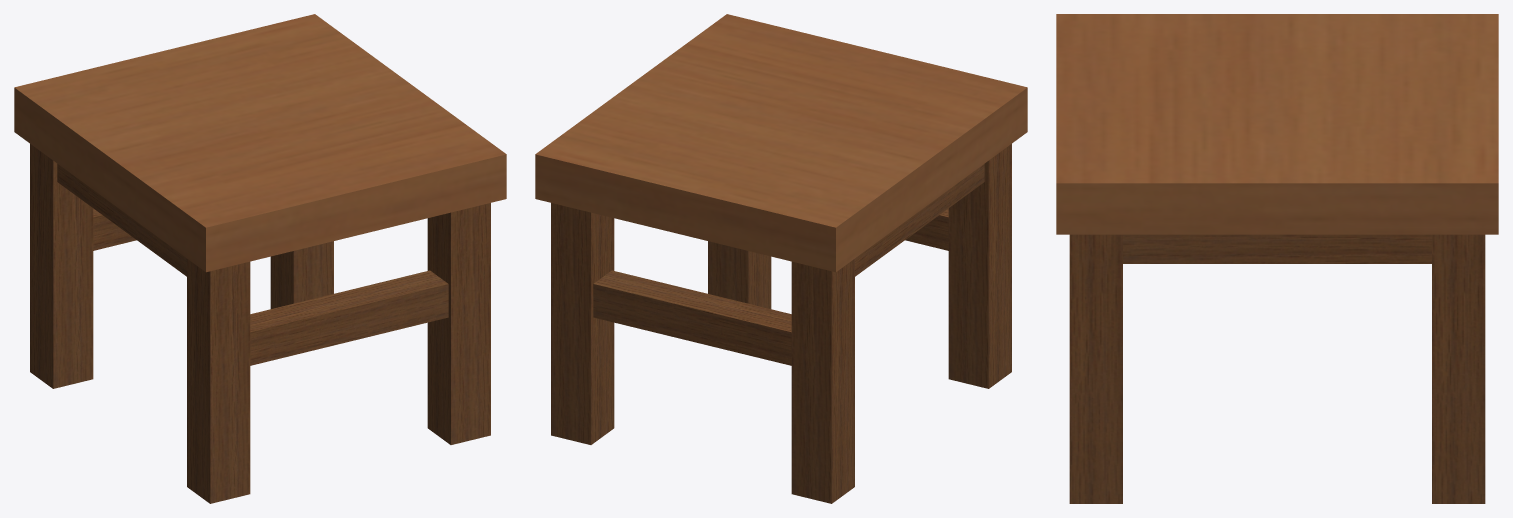
Rendered from Stool_3A.fbx.
3 renders of one model, left to right at view 1: azimuth 30°, elevation 25°; view 2: azimuth 150°, elevation 25°; view 3: azimuth 270°, elevation 25°, orthographic. The views are drawn at different scales.
Parts seen in each view (by area): view 1: polySurface1511; view 2: polySurface1511; view 3: polySurface1511.
Boxes of the visible parts, x1,y1,x2,y2 form: polySurface1511: (14, 14, 506, 503); polySurface1511: (535, 14, 1027, 503); polySurface1511: (1056, 14, 1498, 503).
Bounding box in the file's own units: 0.6 × 0.5392 × 0.6625.
